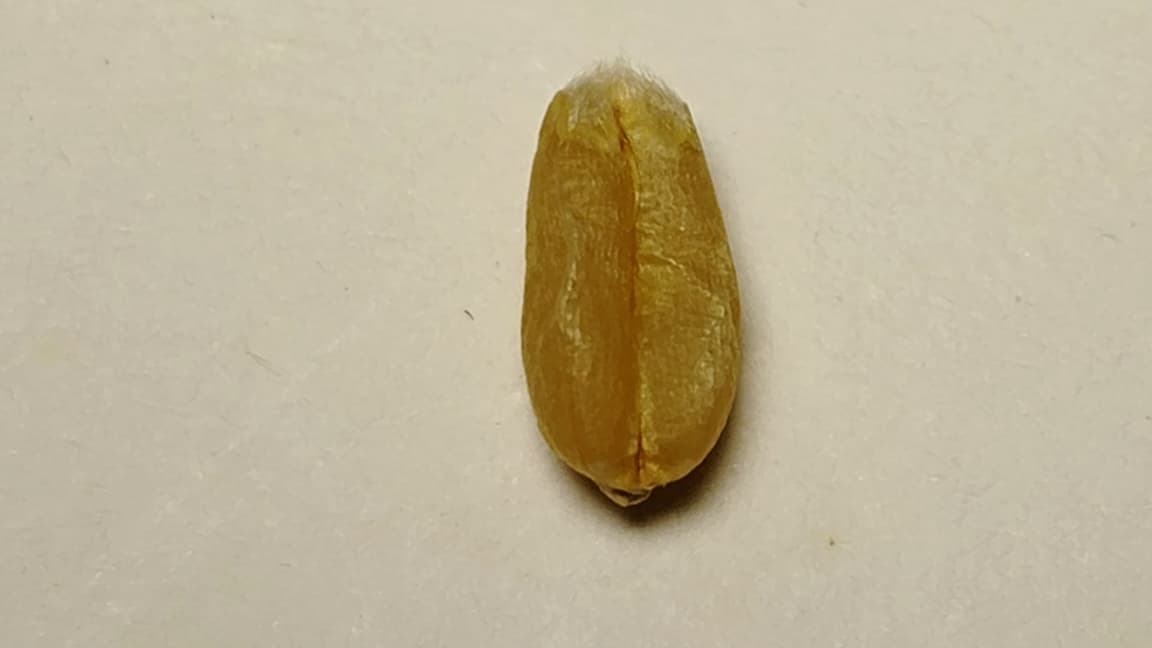healthy: (522, 65, 739, 502)
